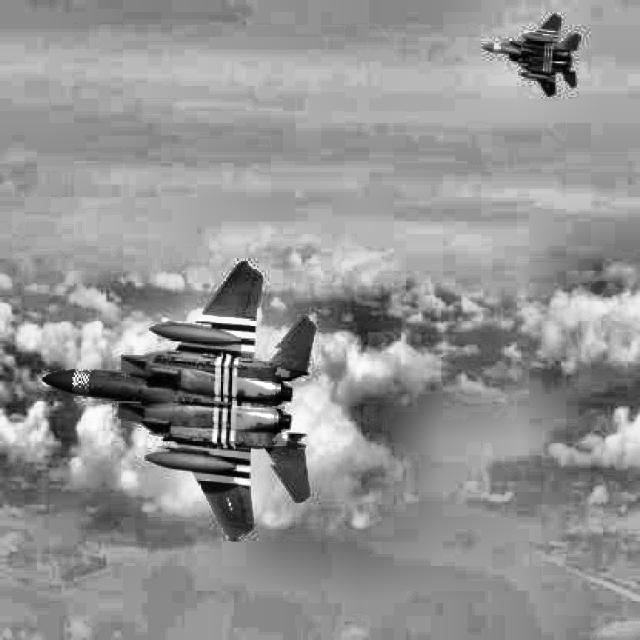F15: (42, 261, 316, 542), (482, 12, 580, 98)
